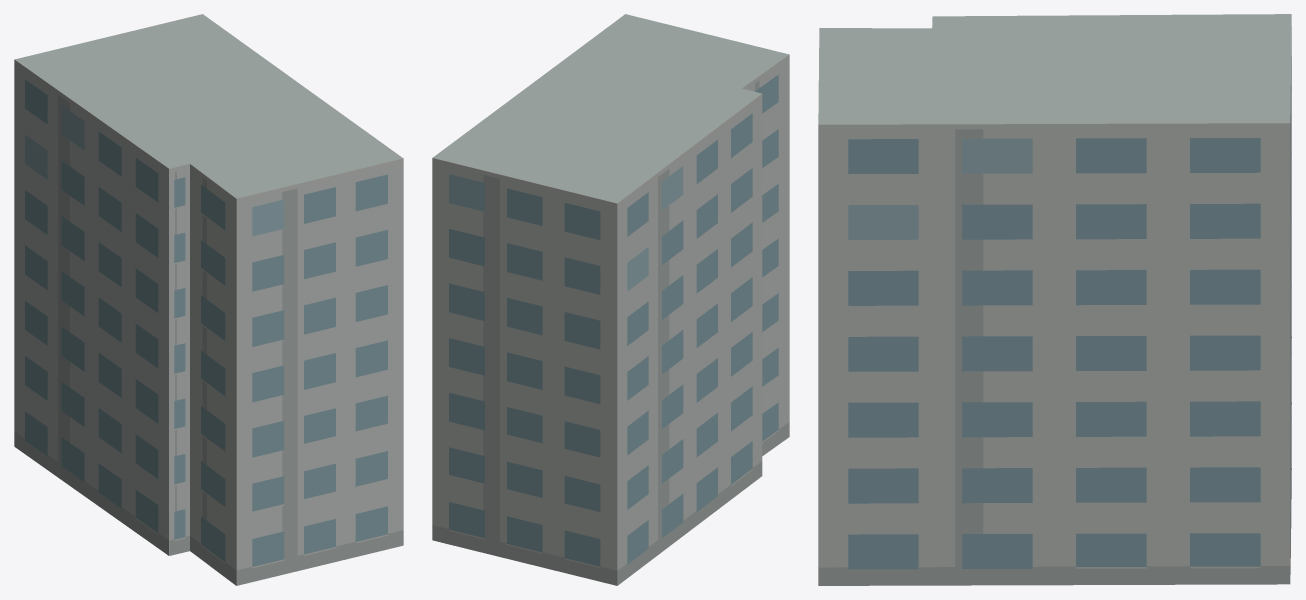
The model's file is survey-upis-32736196.glb.
3 views of the same model, side by side, from view 1: azimuth 30°, elevation 25°; view 2: azimuth 150°, elevation 25°; view 3: azimuth 270°, elevation 25° (orthographic). The views are drawn at different scales.
Parts seen in each view (by area): view 1: survey-upis-32736196.tmp; view 2: survey-upis-32736196.tmp; view 3: survey-upis-32736196.tmp.
Boxes of the visible parts, left/top/right/bottom form: survey-upis-32736196.tmp: left=14, top=14, right=403, bottom=585; survey-upis-32736196.tmp: left=432, top=14, right=789, bottom=585; survey-upis-32736196.tmp: left=818, top=14, right=1291, bottom=585.
Bounding box in the file's own units: 11.24 × 21.8 × 20.29.
